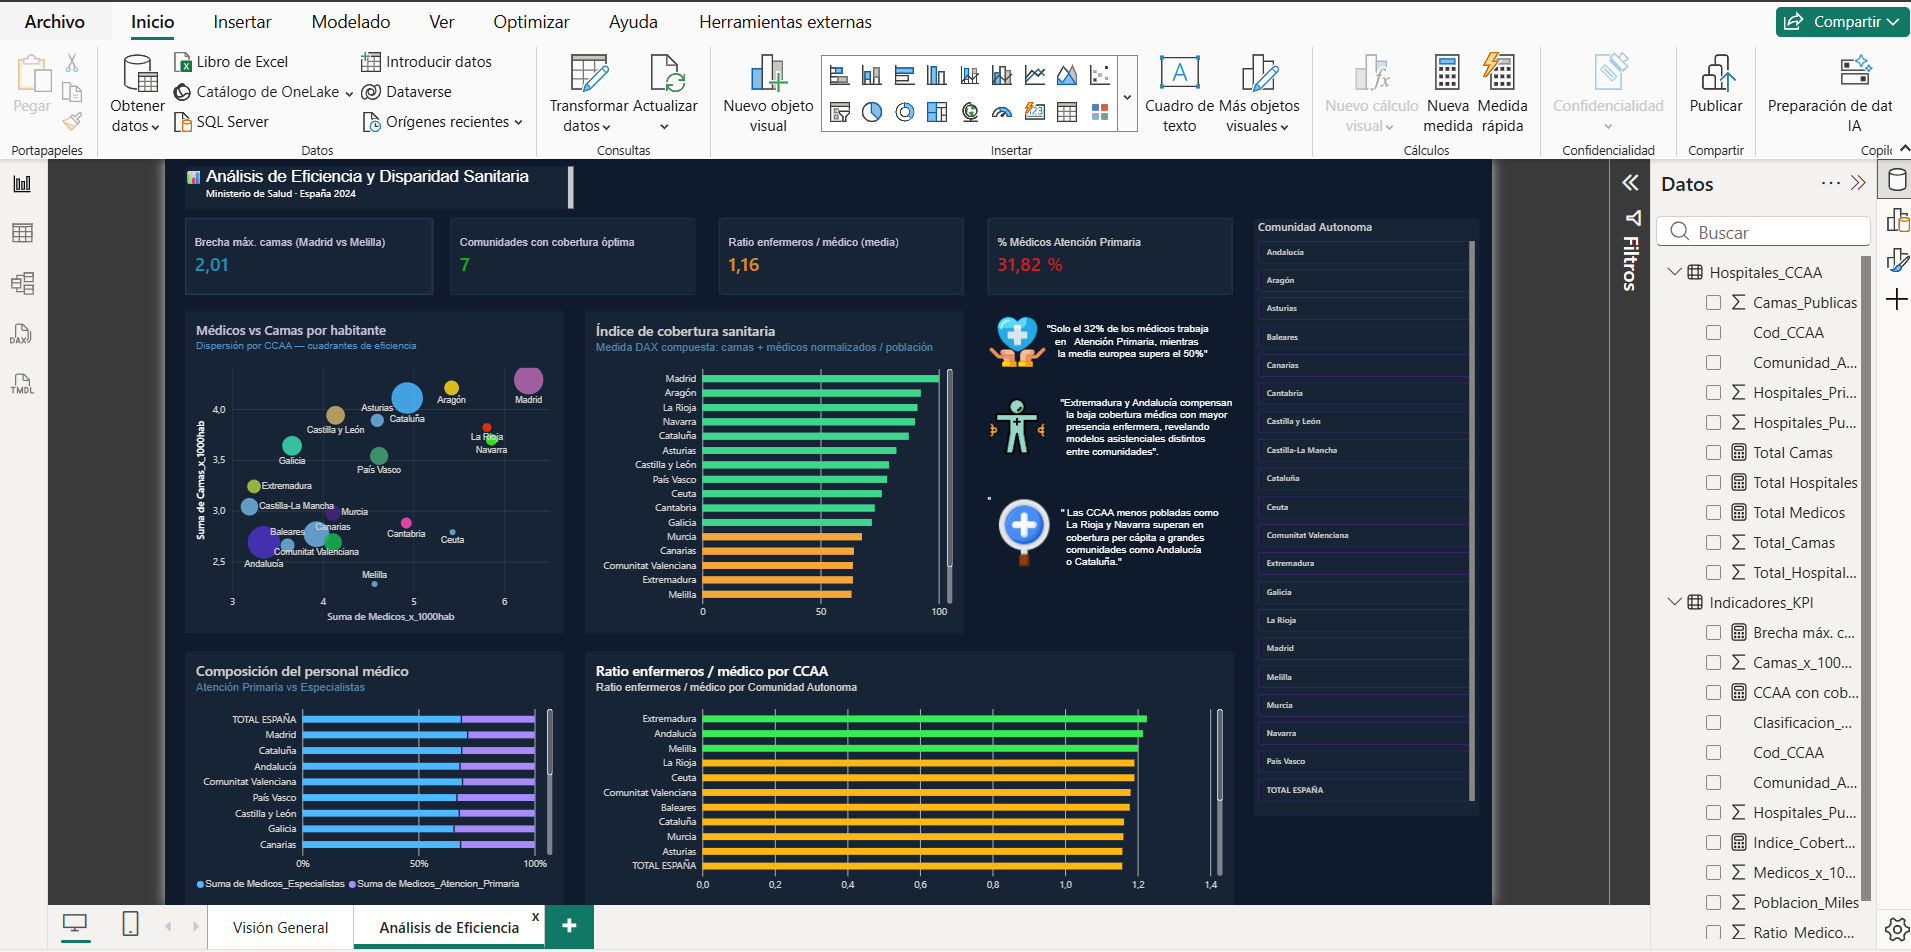

This screenshot's page, from the dashboard's own definition file:
{"tool":"powerbi","page":{"name":"Análisis de Eficiencia","canvas":[1920,1080],"ordinal":1},"visuals":[{"type":"textbox","box":[28.4,10.4,562.7,62.7],"z":0},{"type":"cardVisual","title":"Brecha máx. camas","fields":{"Data":["Indicadores_KPI.Brecha_Camas"]},"box":[28.4,85.1,359.7,111.9],"z":1000},{"type":"cardVisual","fields":{"Data":["Indicadores_KPI.CCAA_Cobertura_Optima"]},"box":[413.4,85.1,355.2,111.9],"z":2000},{"type":"cardVisual","fields":{"Data":["Medicos_CCAA.Ratio_Enfermeros_Medico"]},"box":[801.5,85.1,355.2,111.9],"z":3000},{"type":"cardVisual","fields":{"Data":["Medicos_CCAA.% Médicos Atención Primaria"]},"box":[1191,85.1,355.2,111.9],"z":4000},{"type":"scatterChart","title":"Médicos vs Camas por habitante","fields":{"Category":["Indicadores_KPI.Comunidad_Autonoma"],"X":["Sum(Indicadores_KPI.Medicos_x_1000hab)"],"Y":["Sum(Indicadores_KPI.Camas_x_1000hab)"],"Size":["Sum(Indicadores_KPI.Poblacion_Miles)"]},"box":[28.4,220.9,547.8,465.7],"z":5000},{"type":"barChart","title":"Índice de cobertura sanitaria","fields":{"Category":["Indicadores_KPI.Comunidad_Autonoma"],"Y":["Indicadores_KPI.Indice_Cobertura"]},"box":[608.9,221.4,548.2,466.1],"z":6000},{"type":"hundredPercentStackedBarChart","title":"Composición del personal médico","fields":{"Category":["Medicos_CCAA.Comunidad_Autonoma"],"Y":["Sum(Medicos_CCAA.Medicos_Especialistas)","Sum(Medicos_CCAA.Medicos_Atencion_Primaria)"]},"box":[28.6,712.5,548.2,367.9],"z":7000},{"type":"clusteredBarChart","title":"Ratio enfermeros / médico por CCAA","fields":{"Category":["Medicos_CCAA.Comunidad_Autonoma"],"Y":["Medicos_CCAA.Ratio_Enfermeros_Medico"]},"box":[607.1,712.5,939.3,367.9],"z":8000},{"type":"advancedSlicerVisual","title":"Comunidad Autonoma","fields":{"Values":["Medicos_CCAA.Comunidad_Autonoma"]},"box":[1576,86,326,864],"z":9000},{"type":"textbox","box":[1191.1,220,355.6,86.7],"z":10000},{"type":"image","box":[1191.7,220.8,83.3,87.5],"z":11000},{"type":"textbox","box":[1191.1,344.4,355.6,173.3],"z":12000},{"type":"image","box":[1169.5,344.1,128.8,86.4],"z":13000},{"type":"textbox","box":[1190.8,486.2,355.4,147.7],"z":14000},{"type":"image","box":[1191.1,486.7,106.7,108.9],"z":15000}]}

Visuals, with their boxes on the page's 1920x1080 design canvas (x1, y1, x2, y2). These are canvas units, not pixel positions in the 1911x952 screenshot, which may show the page scaled, cropped or inside an application window:
textbox: bbox=[28, 10, 591, 73]
"Brecha máx. camas" cardVisual: bbox=[28, 85, 388, 197]
cardVisual - Indicadores_KPI.CCAA_Cobertura_Optima: bbox=[413, 85, 769, 197]
cardVisual - Medicos_CCAA.Ratio_Enfermeros_Medico: bbox=[802, 85, 1157, 197]
cardVisual - Medicos_CCAA.% Médicos Atención Primaria: bbox=[1191, 85, 1546, 197]
"Médicos vs Camas por habitante" scatterChart: bbox=[28, 221, 576, 687]
"Índice de cobertura sanitaria" barChart: bbox=[609, 221, 1157, 688]
"Composición del personal médico" hundredPercentStackedBarChart: bbox=[29, 712, 577, 1080]
"Ratio enfermeros / médico por CCAA" clusteredBarChart: bbox=[607, 712, 1546, 1080]
"Comunidad Autonoma" advancedSlicerVisual: bbox=[1576, 86, 1902, 950]
textbox: bbox=[1191, 220, 1547, 307]
image: bbox=[1192, 221, 1275, 308]
textbox: bbox=[1191, 344, 1547, 518]
image: bbox=[1170, 344, 1298, 430]
textbox: bbox=[1191, 486, 1546, 634]
image: bbox=[1191, 487, 1298, 596]
